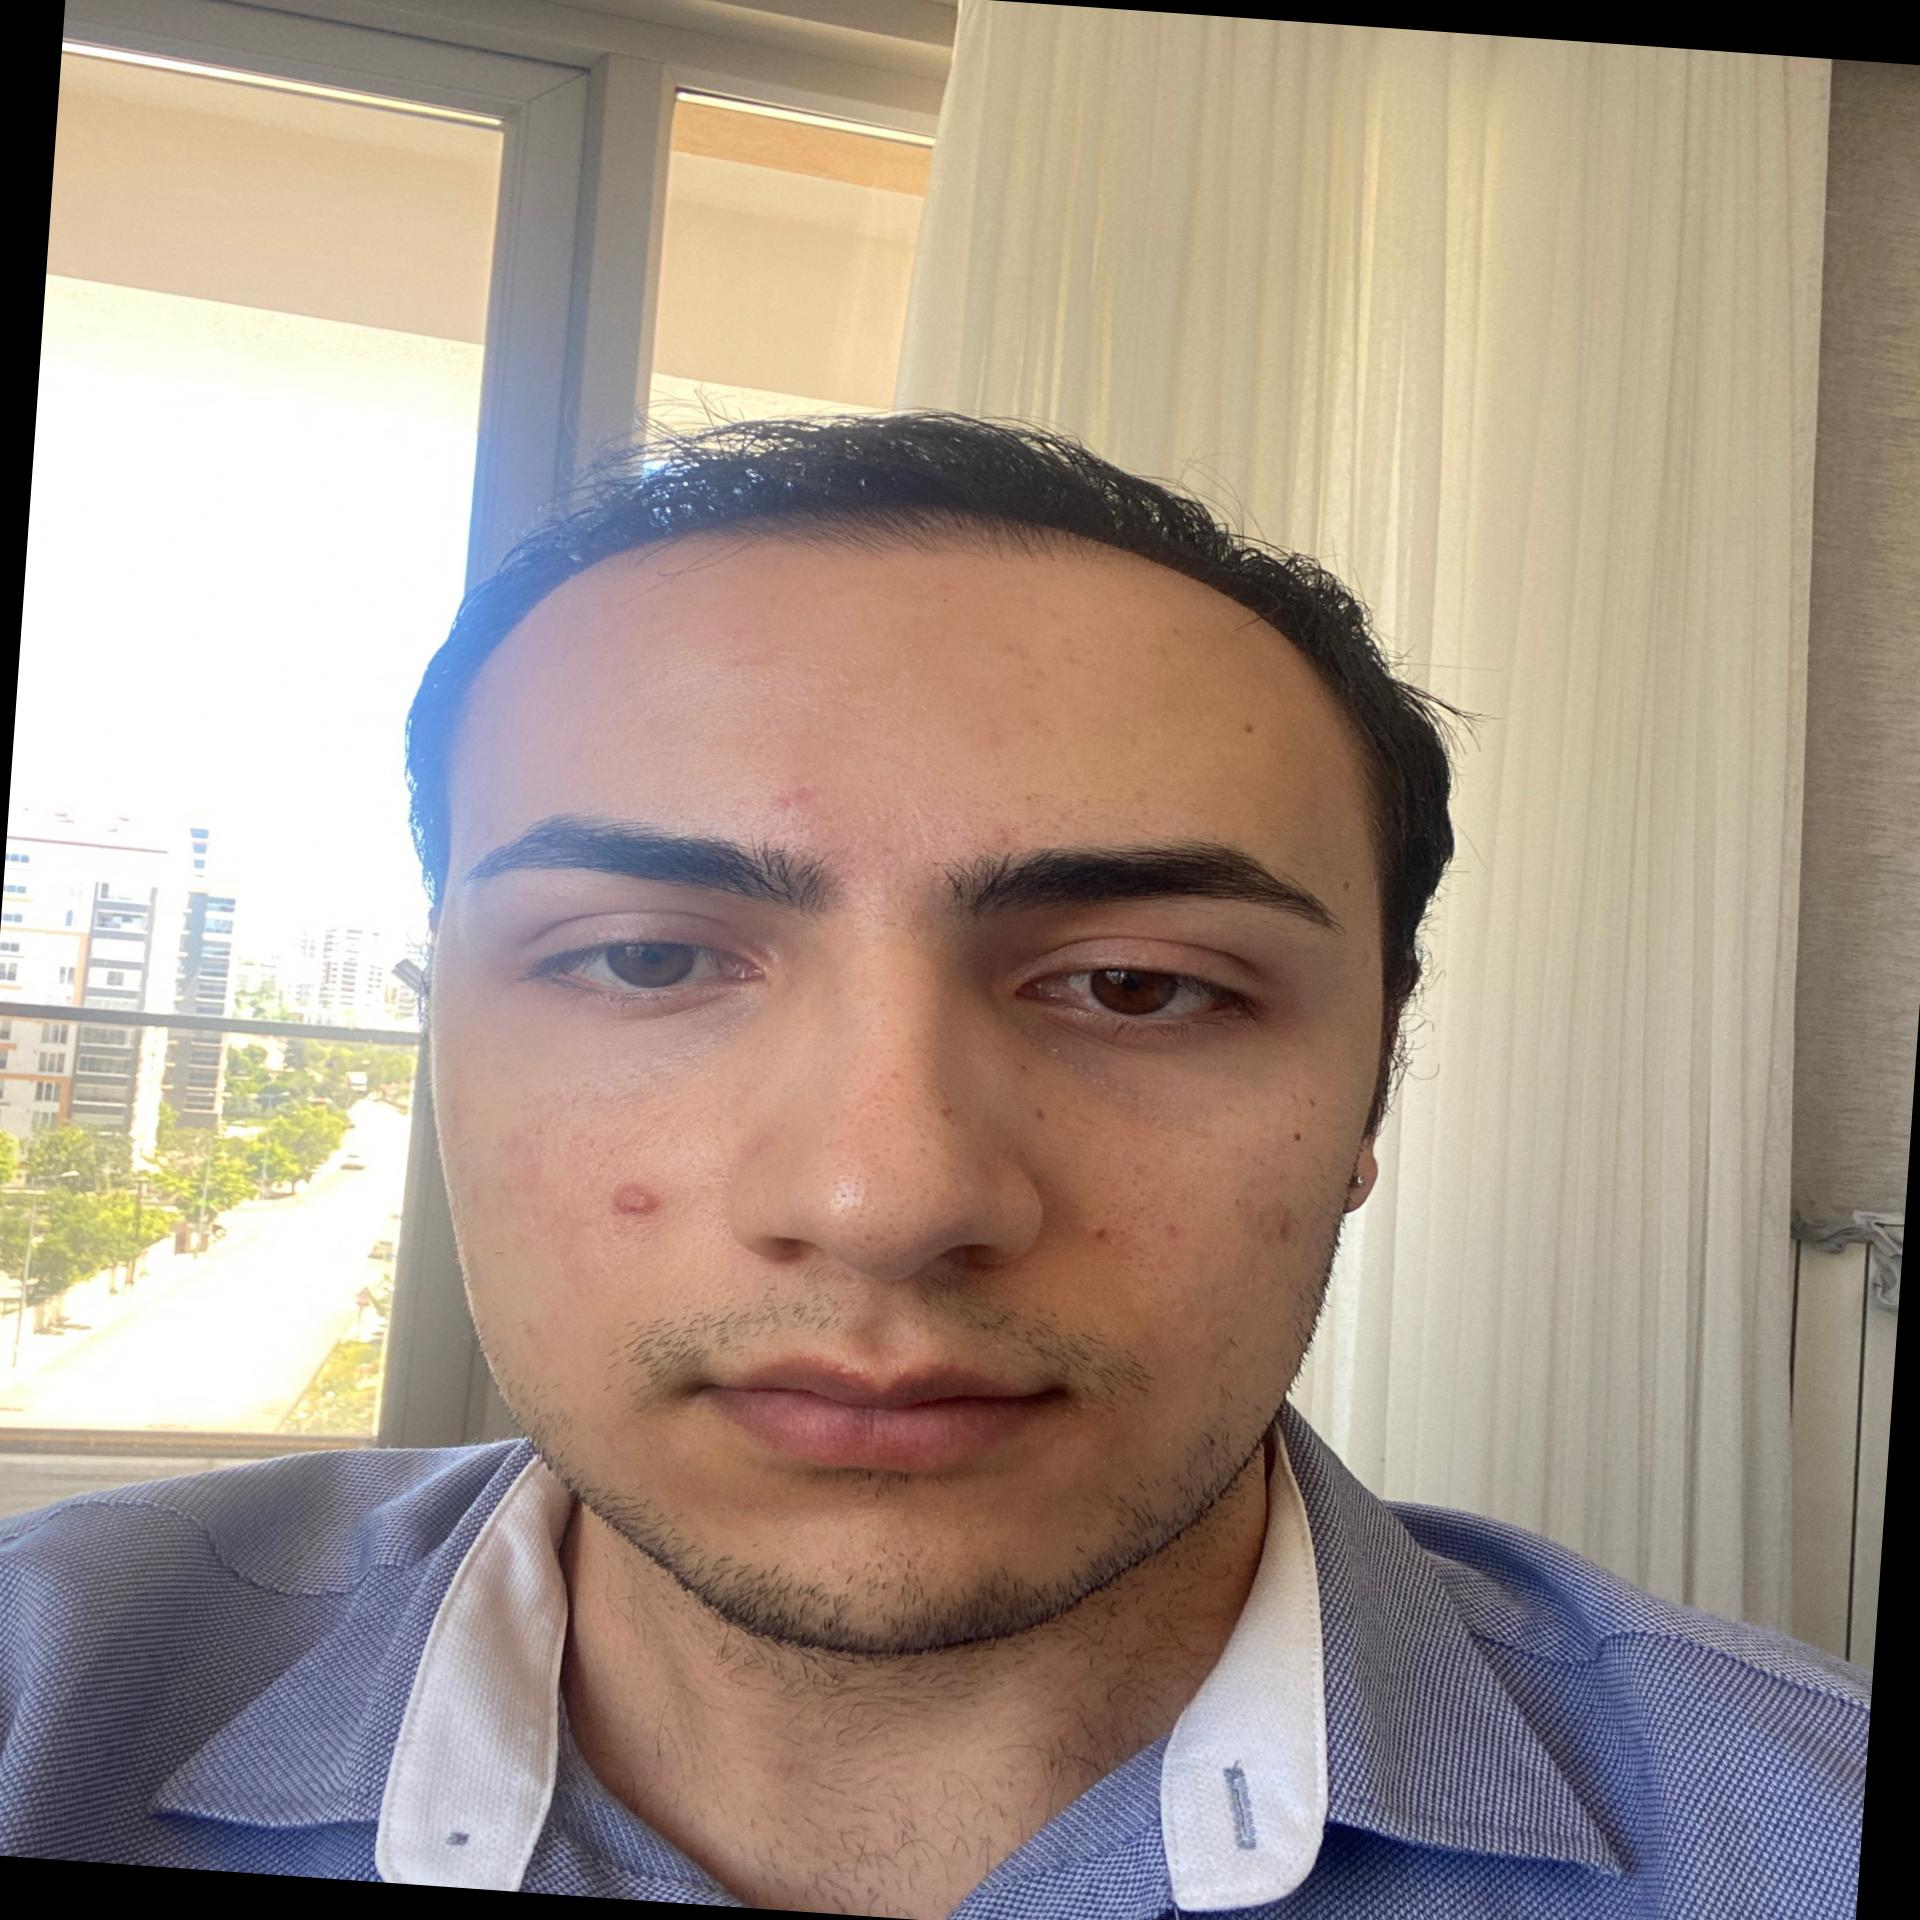Acne: (603, 1176, 666, 1220), (1247, 1199, 1301, 1247), (761, 779, 825, 818), (1162, 1215, 1189, 1243), (1083, 1220, 1111, 1241)
Blackhead: (821, 1090, 955, 1254)
Englarged Pores: (566, 1124, 703, 1245), (1081, 1148, 1175, 1278)
